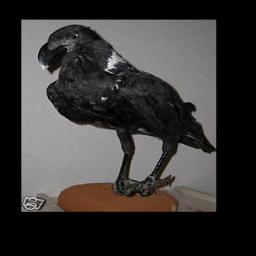Crow: (35, 23, 215, 197)
